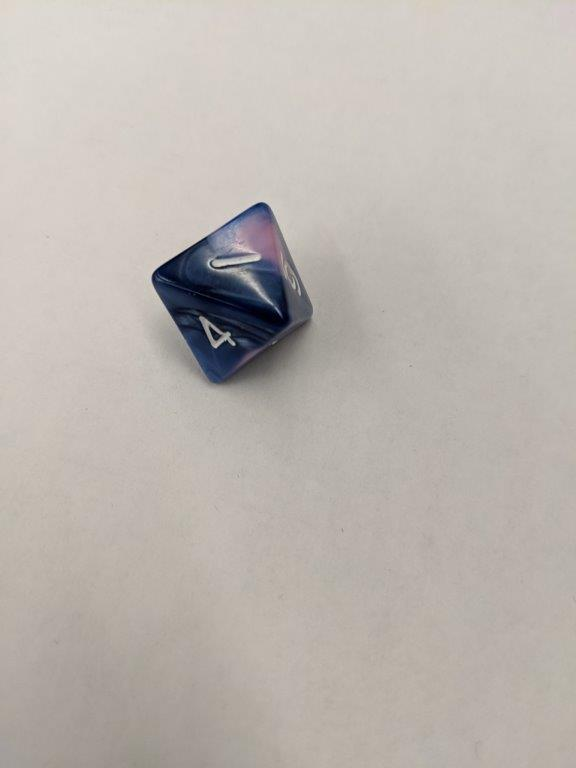d8-1: (149, 199, 315, 384)
